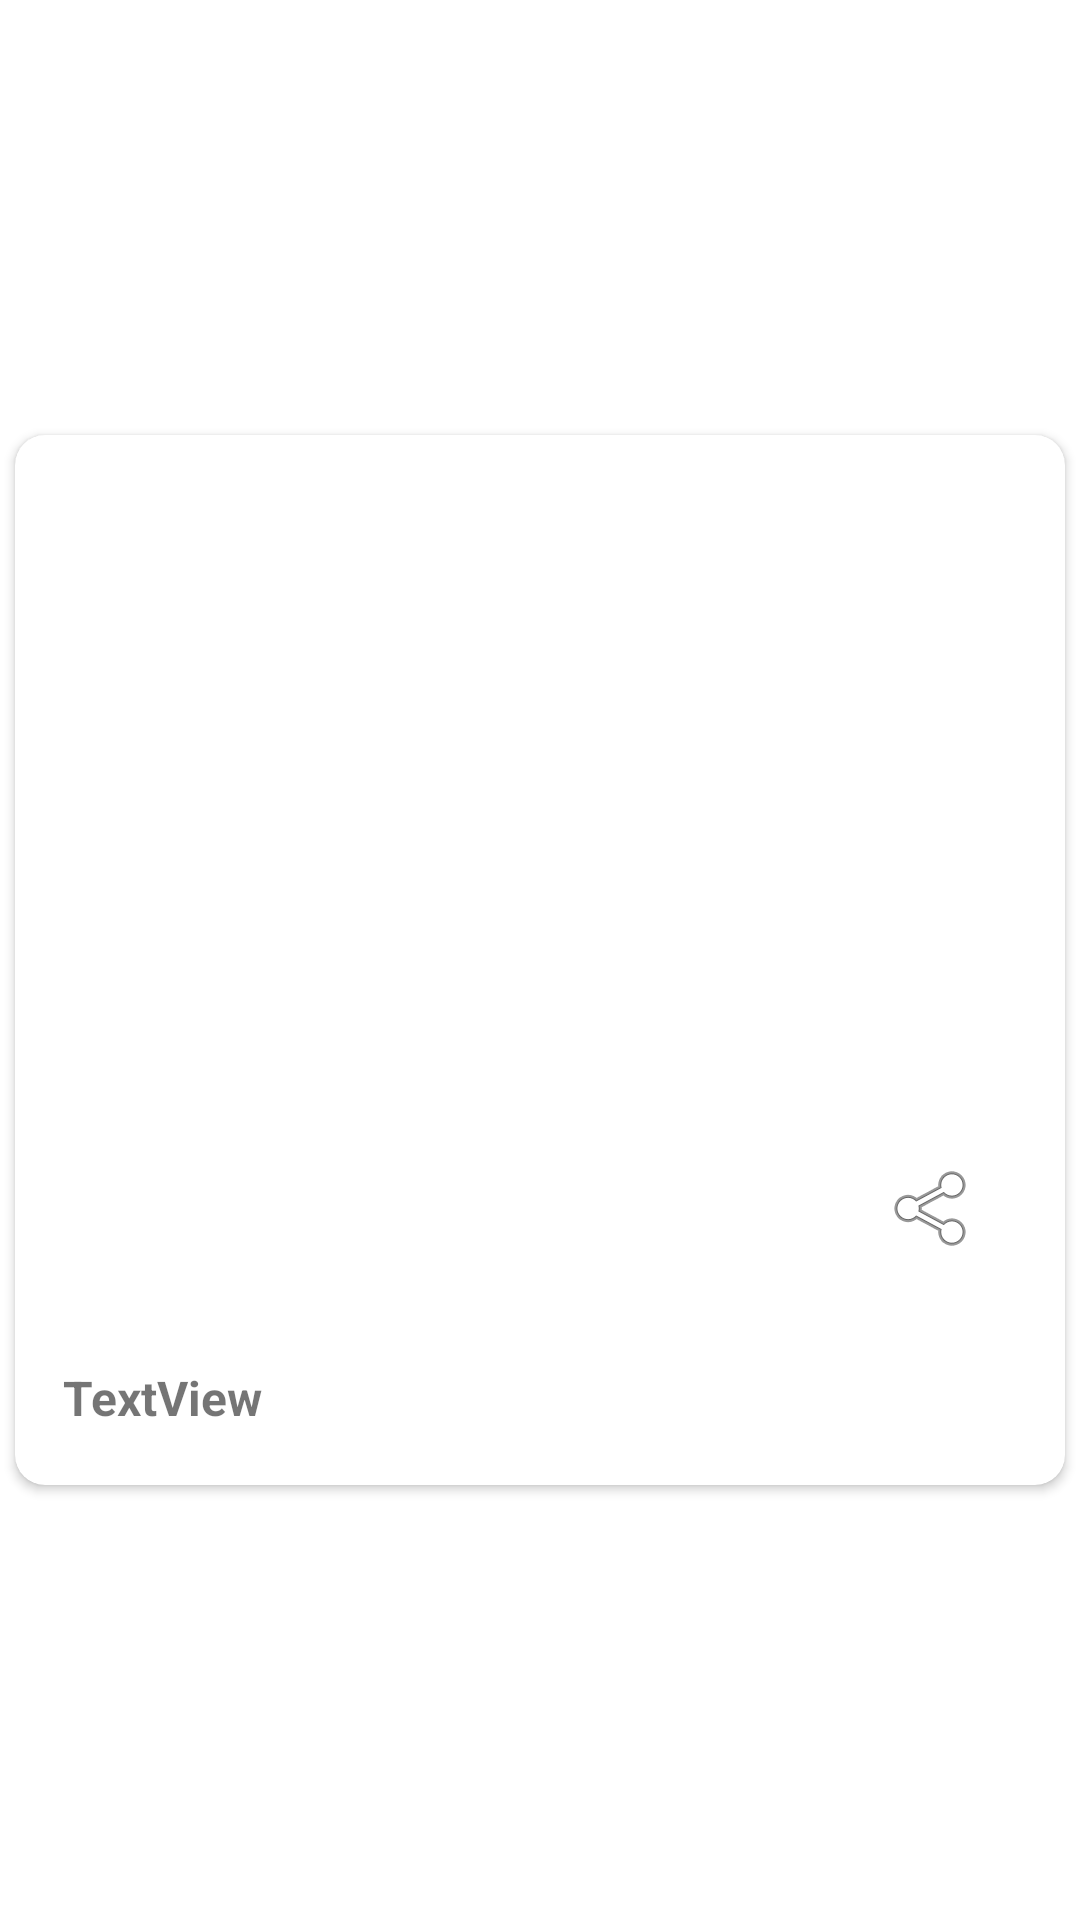

Named icons in this screenshot (1080*1920) and their bounding boxes, (x1,y1,x2,y2):
share: (894,1171,966,1246)
